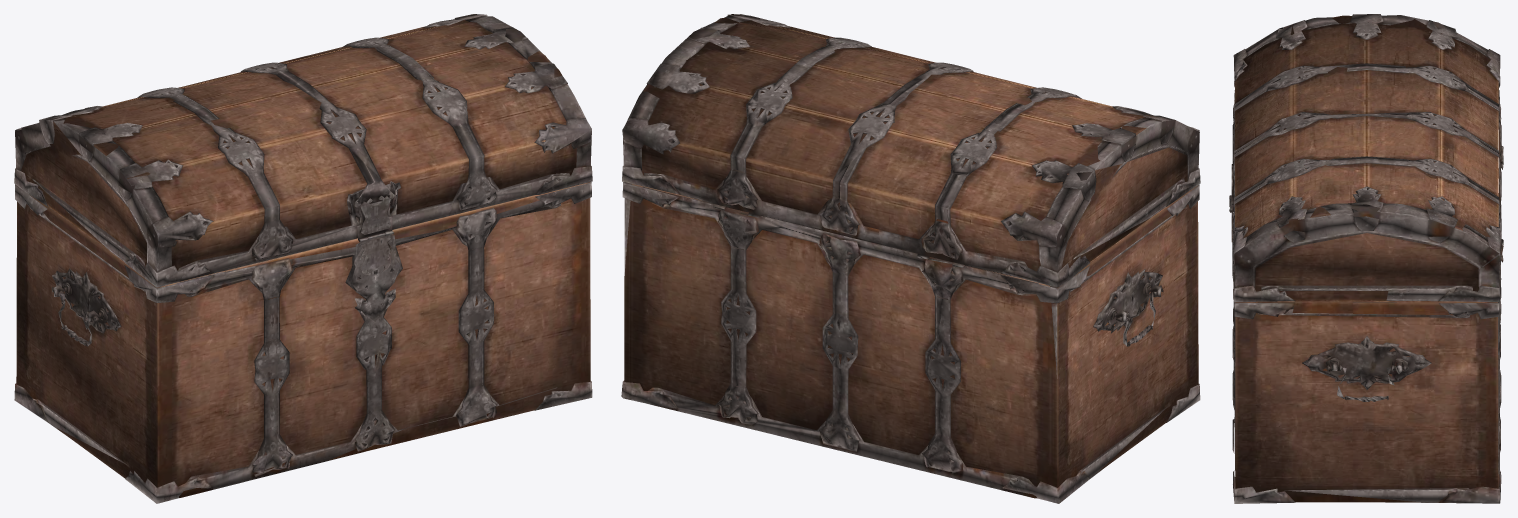
The model's file is treasure_chest.glb.
3 views of the same model, side by side, from view 1: azimuth 30°, elevation 25°; view 2: azimuth 150°, elevation 25°; view 3: azimuth 270°, elevation 25° (orthographic). The views are drawn at different scales.
Visible parts, largest first — view 1: treasure_chest_bottom; view 2: treasure_chest_bottom; view 3: treasure_chest_bottom.
Boxes of the visible parts, x1,y1,x2,y2 form: treasure_chest_bottom: (14, 14, 592, 503); treasure_chest_bottom: (621, 14, 1200, 503); treasure_chest_bottom: (1229, 14, 1503, 503).
Size of the model in its own units: 0.9551 by 0.6161 by 0.5223.
1 material, 1 textured.
